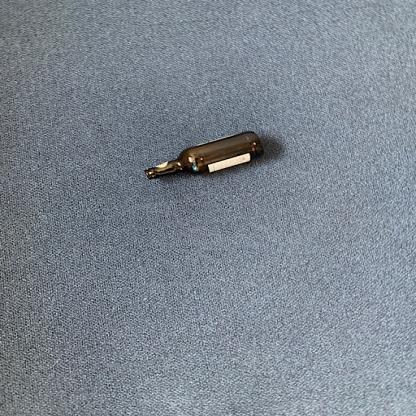trash: (142, 130, 270, 184)
